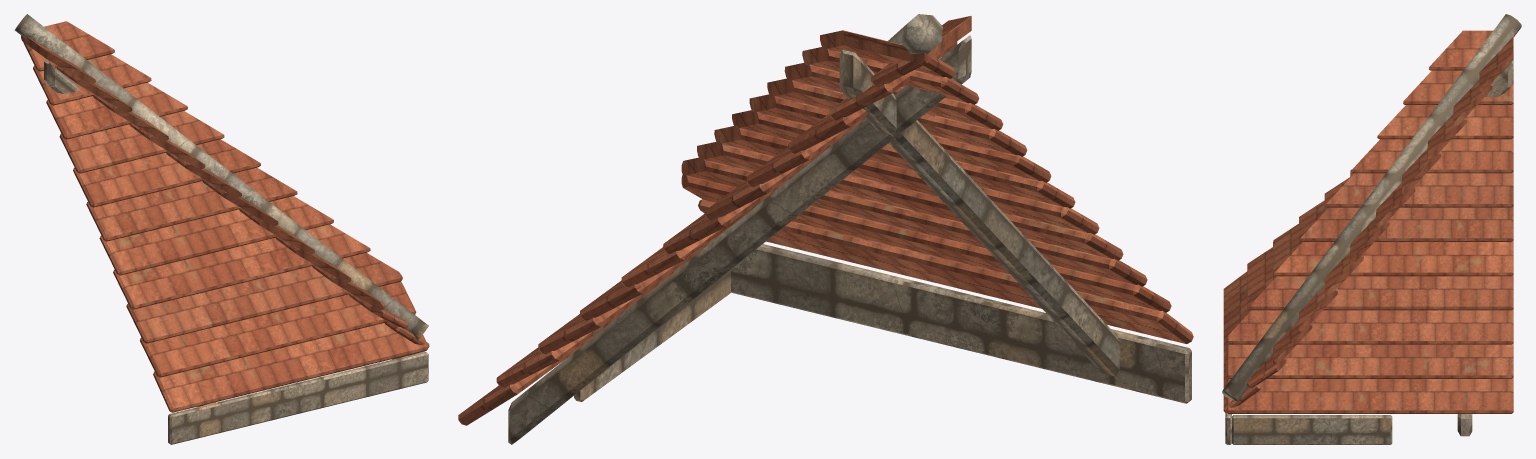
File: cati_kosesi.glb
3 views of the same model, side by side, from view 1: azimuth 30°, elevation 25°; view 2: azimuth 150°, elevation 25°; view 3: azimuth 270°, elevation 25° (orthographic). The views are drawn at different scales.
Parts seen in each view (by area): view 1: cati_kosesi; view 2: cati_kosesi; view 3: cati_kosesi.
Boxes of the visible parts, <box> form: cati_kosesi: <box>14,14,429,444</box>; cati_kosesi: <box>458,14,1193,444</box>; cati_kosesi: <box>1222,14,1521,444</box>.
Size of the model in its own units: 3.71 by 4.24 by 3.7.
Materials: 1 (1 with a texture image).
